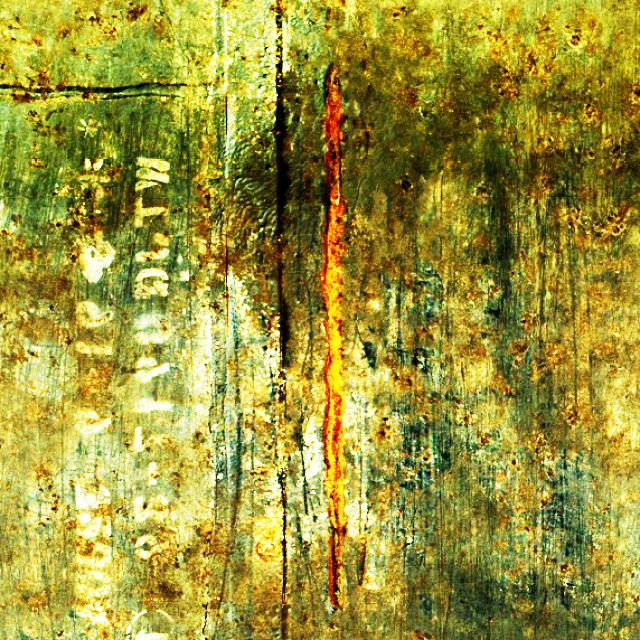Corrosion: (323, 67, 345, 614)
